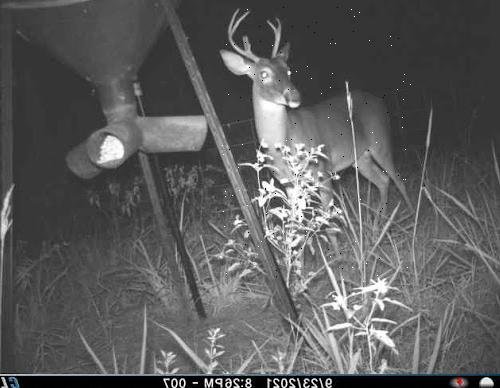Deer: (218, 7, 412, 284)
